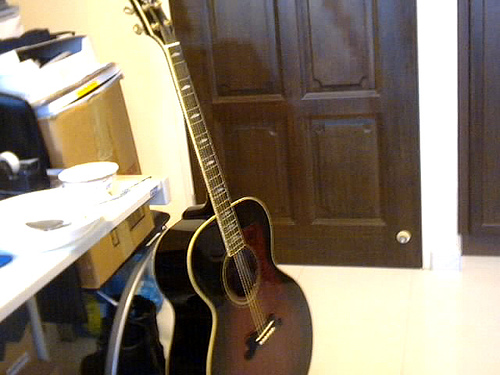guitar: (125, 1, 315, 375)
